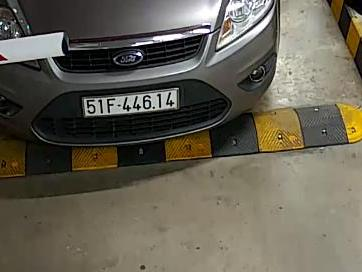car: (81, 88, 182, 119)
